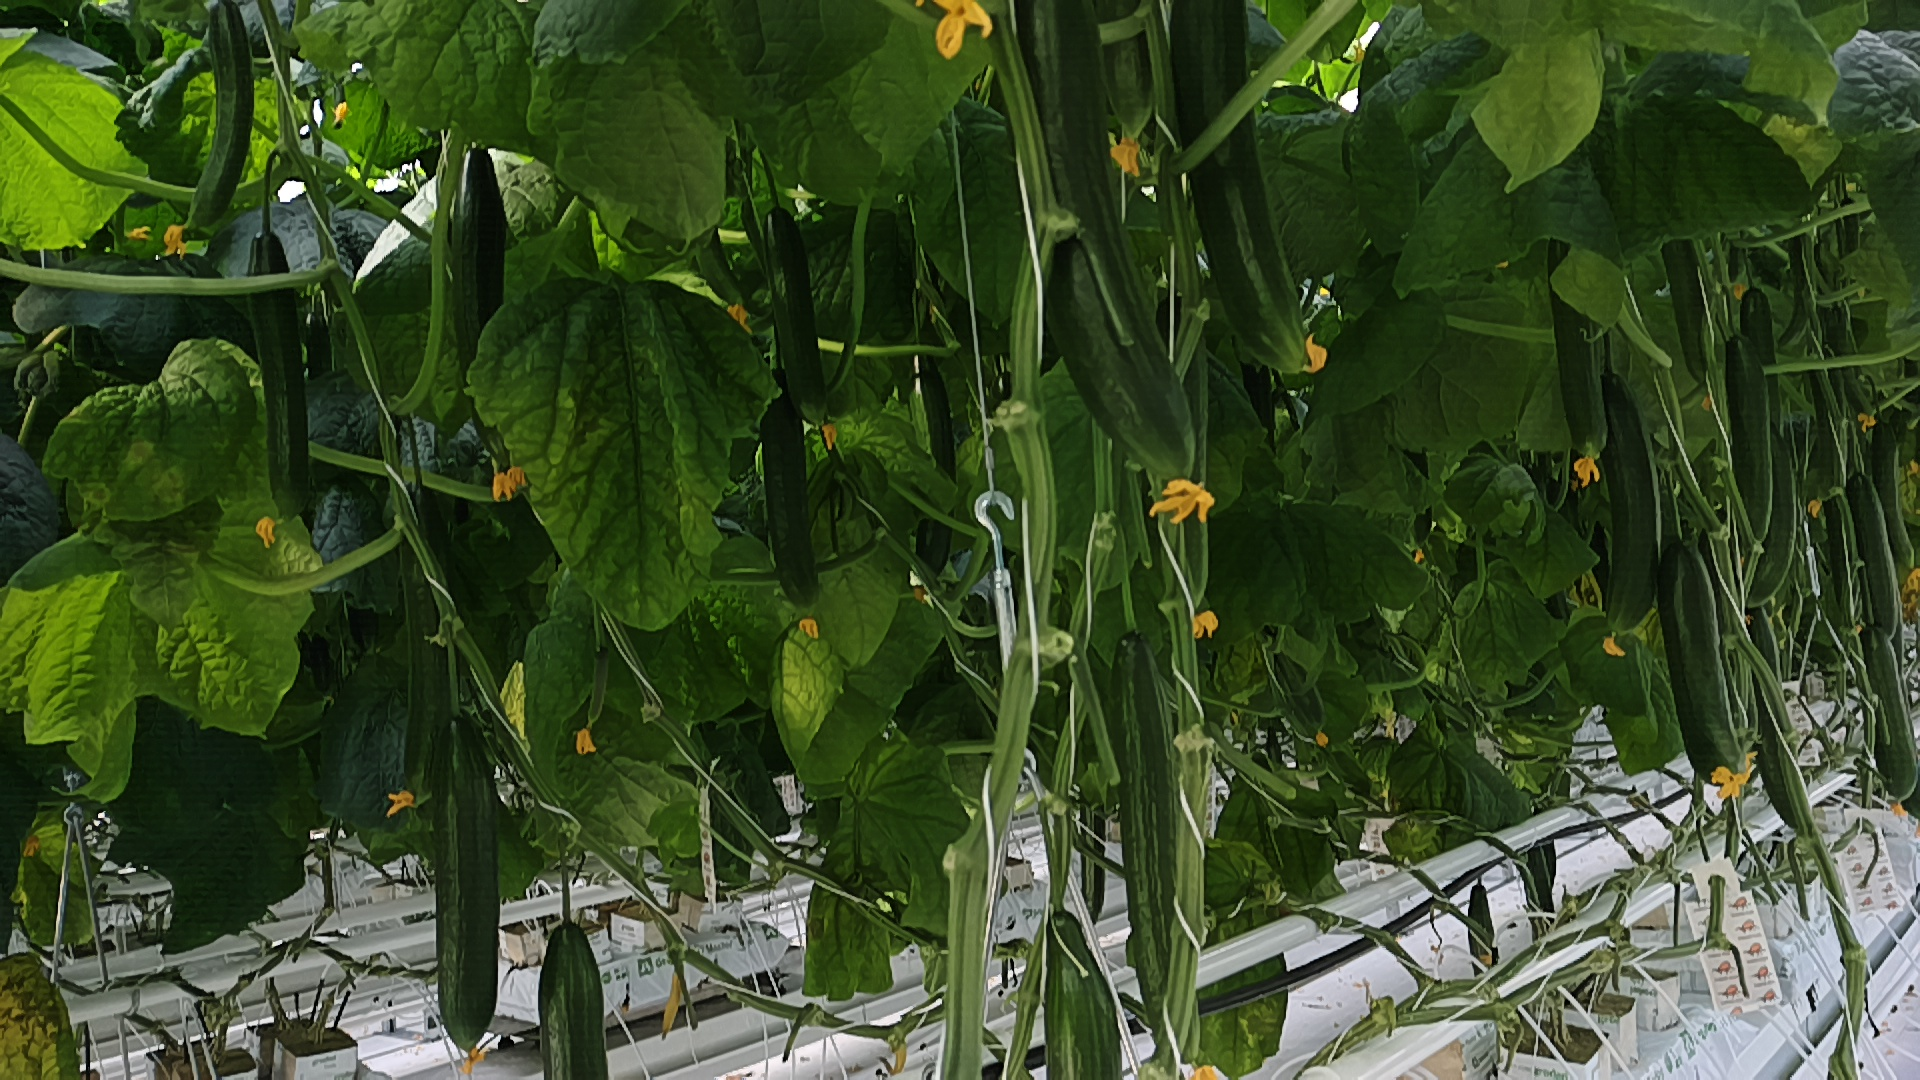gurka: (425, 711, 513, 1063), (1580, 355, 1675, 657), (1651, 529, 1751, 800), (241, 225, 322, 520), (752, 196, 843, 425), (745, 400, 829, 613), (1712, 326, 1779, 550), (1850, 616, 1920, 803)
